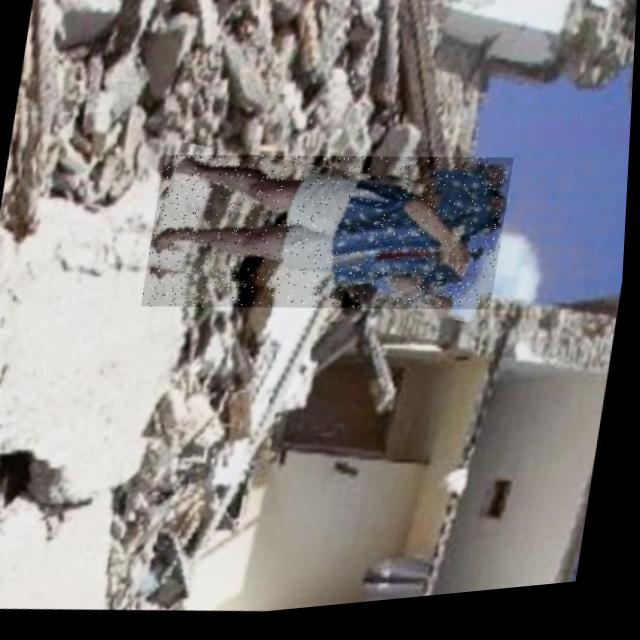Person in Rubble: (141, 131, 516, 346)
